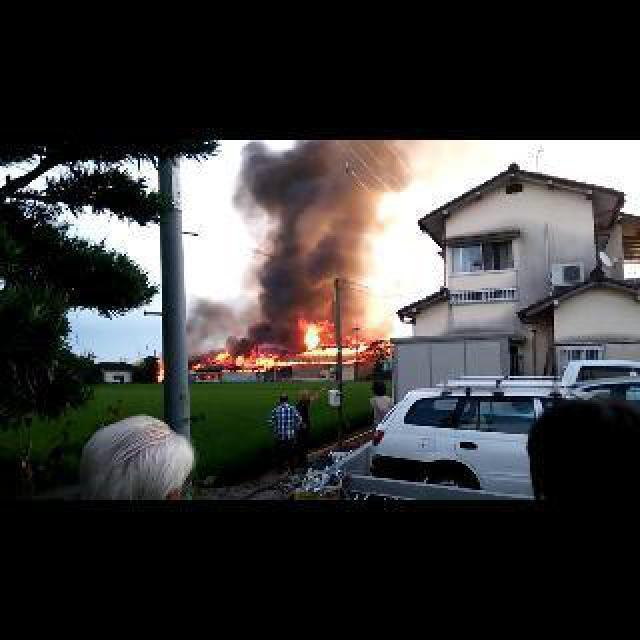smoke: (214, 140, 410, 326)
zfire: (302, 324, 392, 356), (212, 356, 358, 370), (156, 364, 164, 380), (188, 362, 200, 370)
